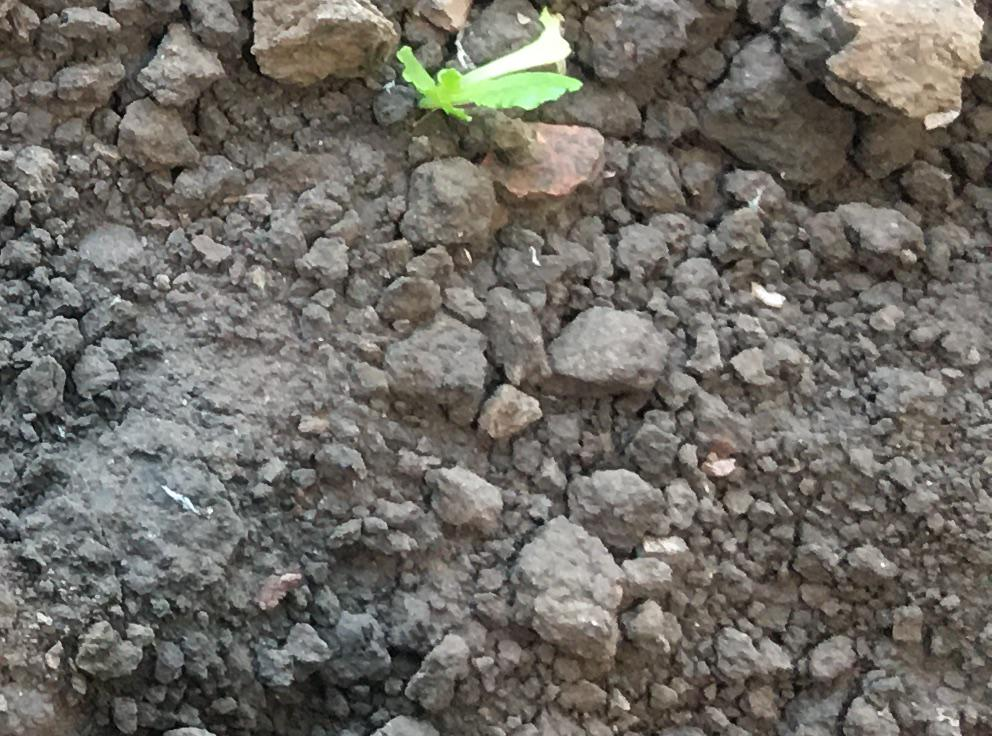block: (702, 32, 844, 193), (503, 507, 623, 667), (835, 1, 982, 130), (536, 308, 673, 399), (251, 1, 400, 79), (380, 310, 486, 417), (394, 154, 496, 245)
